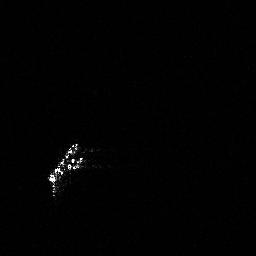ship: (43, 141, 89, 198)
